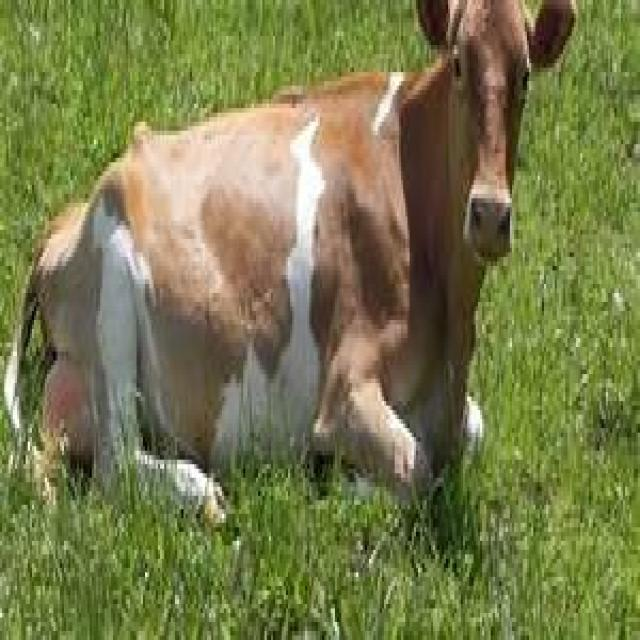cow: (21, 0, 578, 527)
